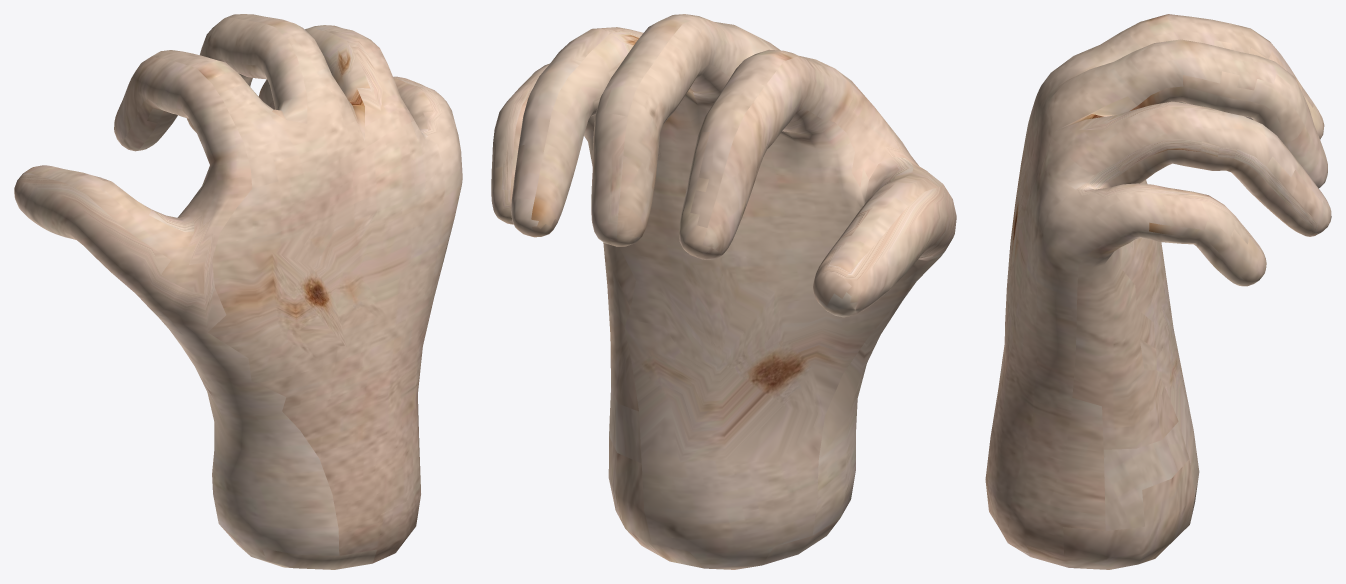
The model's file is hand15.obj.
The picture shows the model from 3 angles, left to right: view 1: azimuth 30°, elevation 25°; view 2: azimuth 150°, elevation 25°; view 3: azimuth 270°, elevation 25°; orthographic projection. The views are drawn at different scales.
Parts seen in each view (by area): view 1: Cube.001; view 2: Cube.001; view 3: Cube.001.
Boxes of the visible parts, x1,y1,x2,y2 form: Cube.001: [14, 14, 462, 569]; Cube.001: [491, 14, 956, 569]; Cube.001: [985, 14, 1331, 569].
Bounding box in the file's own units: 3.61 × 4.64 × 2.85.
